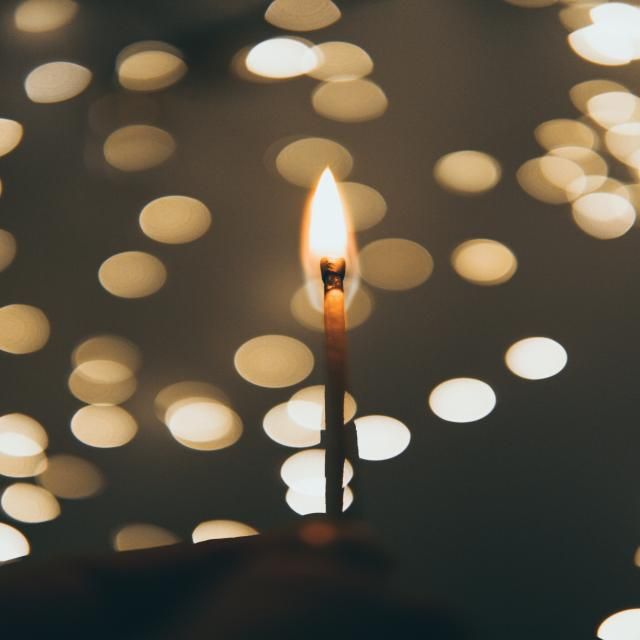fire: (273, 160, 373, 303)
